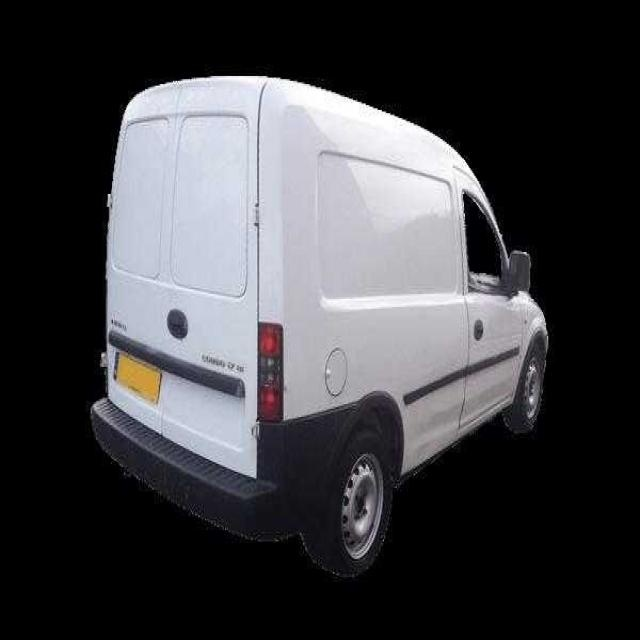Van: (88, 67, 553, 581)
